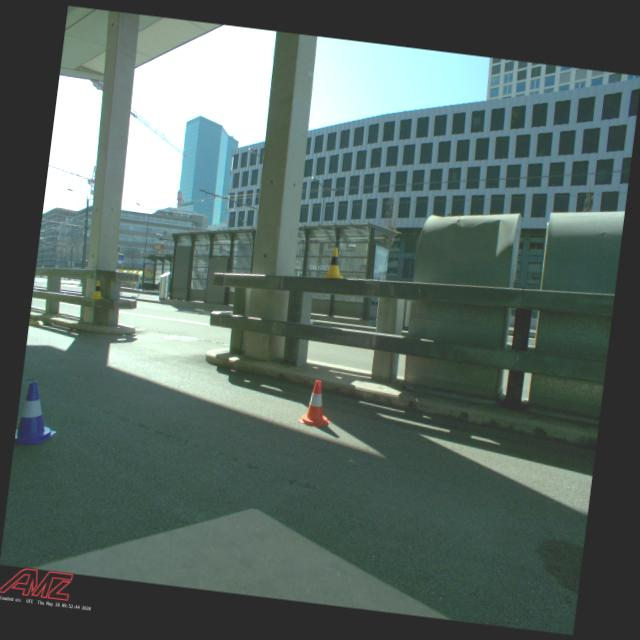blue_cone: (14, 379, 61, 446)
orange_cone: (296, 378, 336, 428)
yellow_cone: (322, 246, 346, 280), (90, 279, 104, 299)
